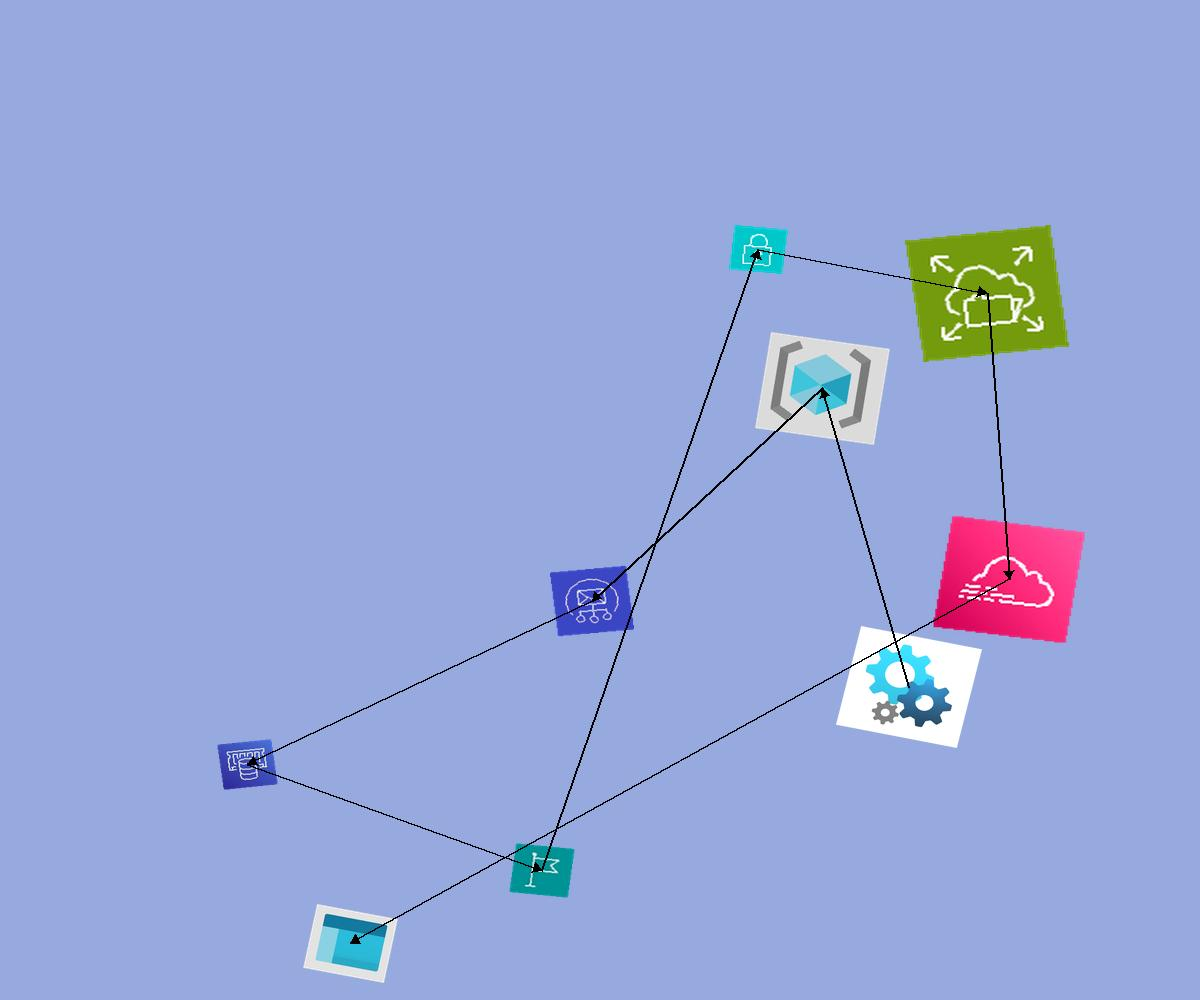AWS-CloudTrail: (932, 515, 1086, 644)
AWS-EFS: (905, 225, 1069, 362)
AWS-ElastiCache: (217, 739, 278, 790)
AWS-Private-subnet: (728, 224, 789, 275)
AWS-Region: (509, 843, 575, 898)
AWS-Simple-Email-Service: (549, 565, 635, 637)
Azure_api: (836, 626, 982, 748)
Azure_management-portal: (303, 904, 398, 983)
Azure_resource_group: (755, 332, 890, 445)
